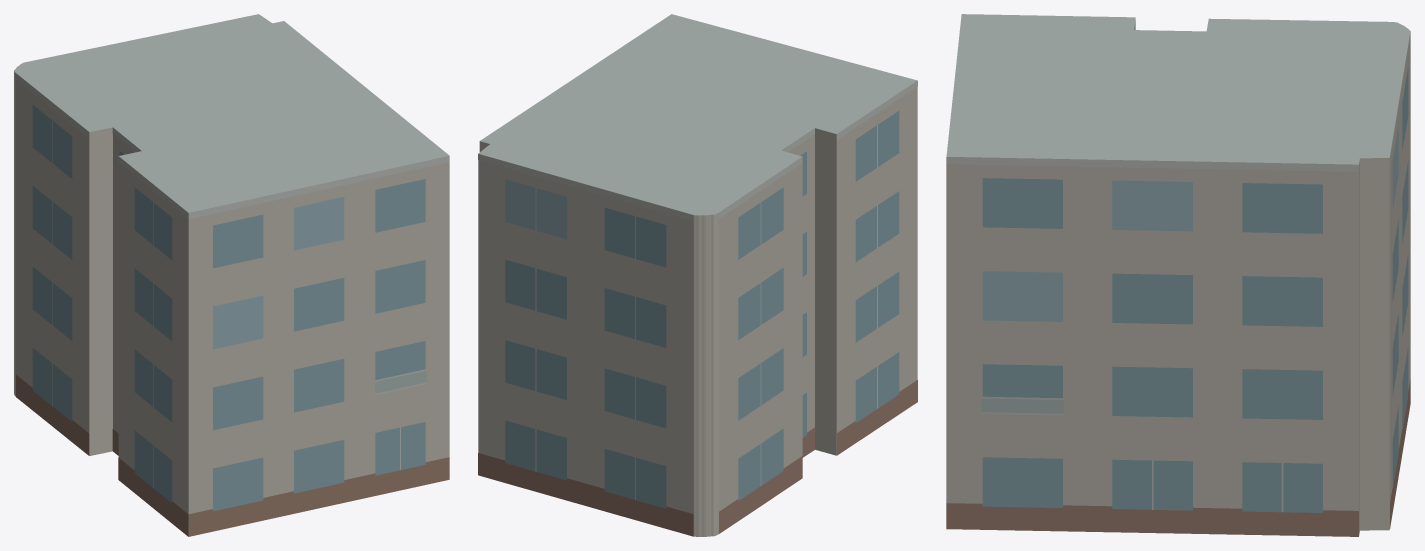
The model's file is survey-upis-32664691.glb.
3 views of the same model, side by side, from view 1: azimuth 30°, elevation 25°; view 2: azimuth 150°, elevation 25°; view 3: azimuth 270°, elevation 25° (orthographic). The views are drawn at different scales.
Parts seen in each view (by area): view 1: survey-upis-32664691.tmp; view 2: survey-upis-32664691.tmp; view 3: survey-upis-32664691.tmp.
Boxes of the visible parts, bbox=[...] form: survey-upis-32664691.tmp: bbox=[14, 14, 449, 536]; survey-upis-32664691.tmp: bbox=[478, 14, 917, 536]; survey-upis-32664691.tmp: bbox=[946, 14, 1410, 536].
Size of the model in its own units: 10.94 by 12.6 by 14.25.
